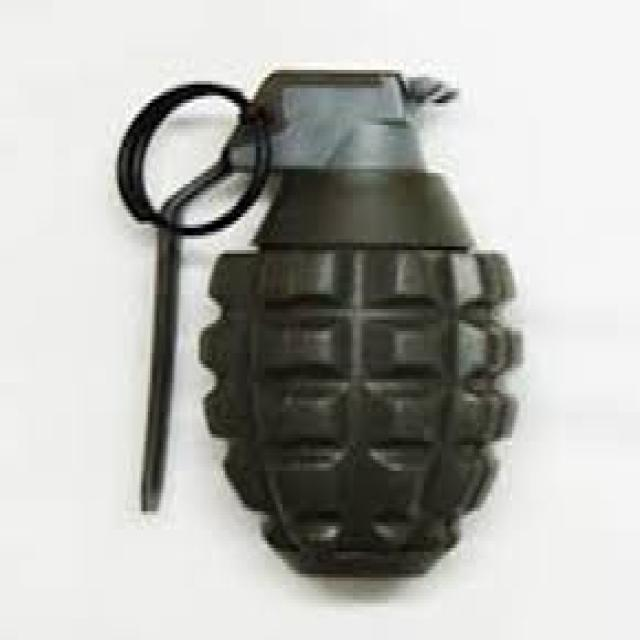grenade: (113, 49, 539, 586)
